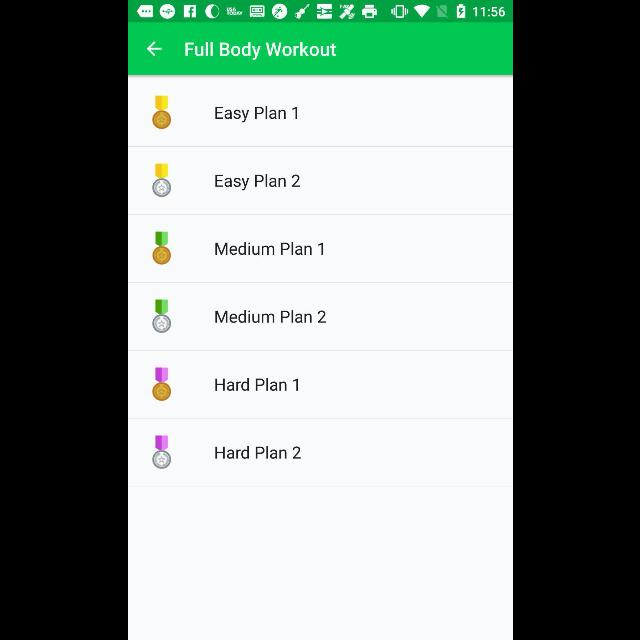icon: (146, 41, 162, 57)
image: (151, 96, 171, 130), (152, 435, 170, 469), (152, 367, 170, 401), (152, 299, 170, 333), (152, 231, 170, 265), (152, 163, 170, 197)
text: (184, 41, 336, 60), (215, 310, 325, 324), (214, 106, 296, 124), (214, 173, 300, 190), (215, 242, 323, 255), (215, 446, 301, 459), (215, 378, 298, 390)
toolbar: (128, 24, 512, 76)
uppertaskbar: (128, 1, 512, 23)
